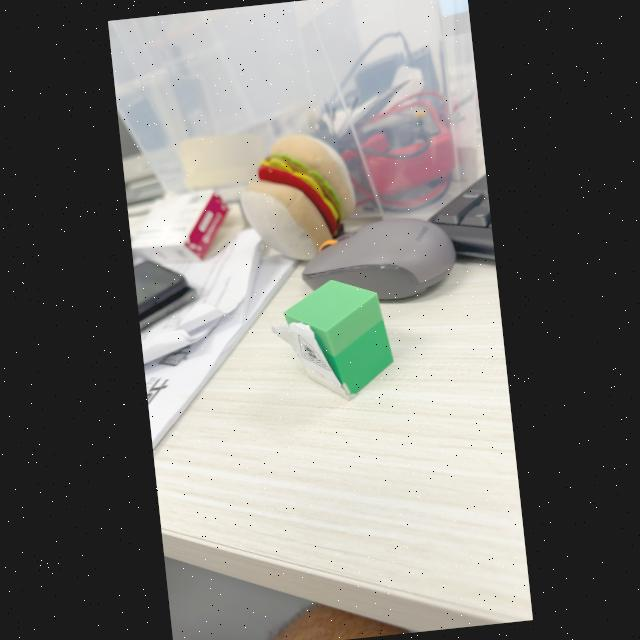Tsunami: (298, 334, 330, 370)
